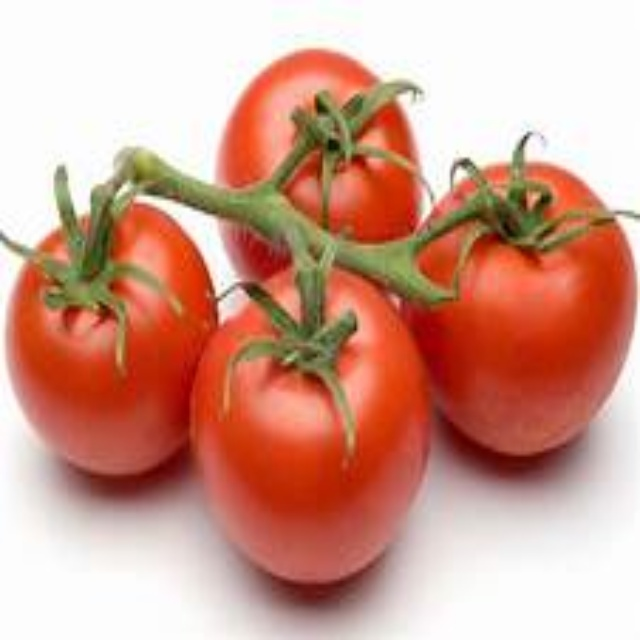tomato: (199, 267, 425, 585), (416, 173, 633, 459), (8, 210, 218, 473), (223, 58, 432, 299)
